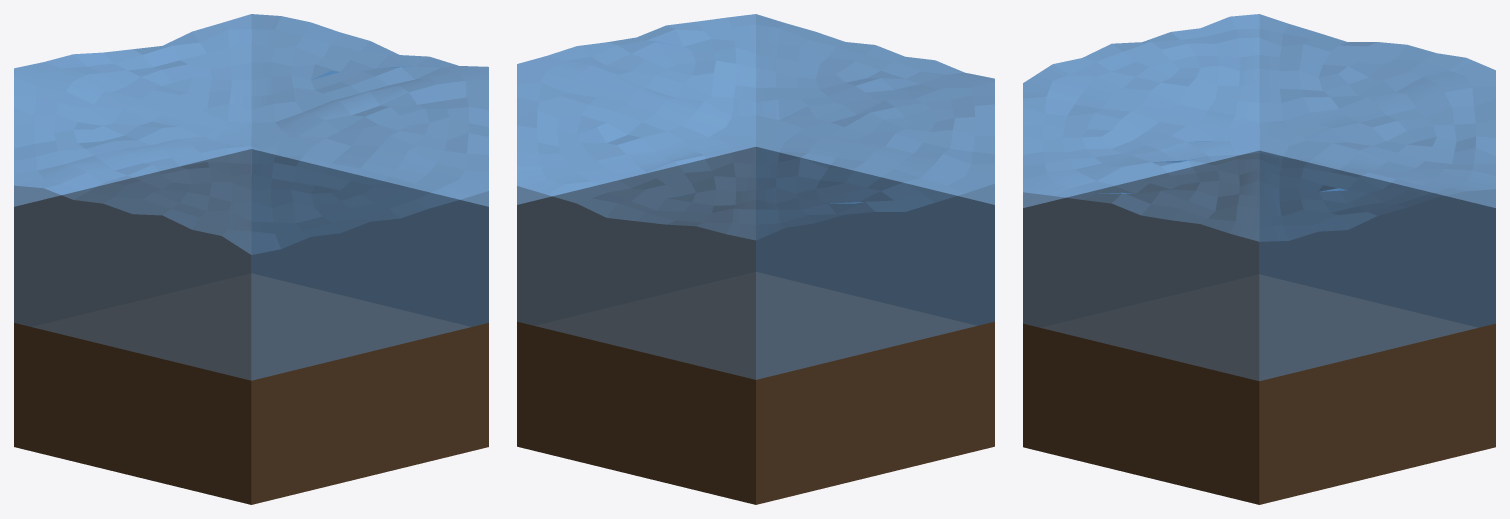
File: water.fbx
3 views of the same model, side by side, from view 1: azimuth 30°, elevation 25°; view 2: azimuth 150°, elevation 25°; view 3: azimuth 270°, elevation 25° (orthographic).
Parts seen in each view (by area): view 1: Water; view 2: Water; view 3: Water.
Part boxes in pixels (x1,y1,x2,y2): Water: (14, 14, 488, 504); Water: (517, 14, 994, 504); Water: (1023, 14, 1495, 504).
Size of the model in its own units: 2 by 1.09 by 1.73.
